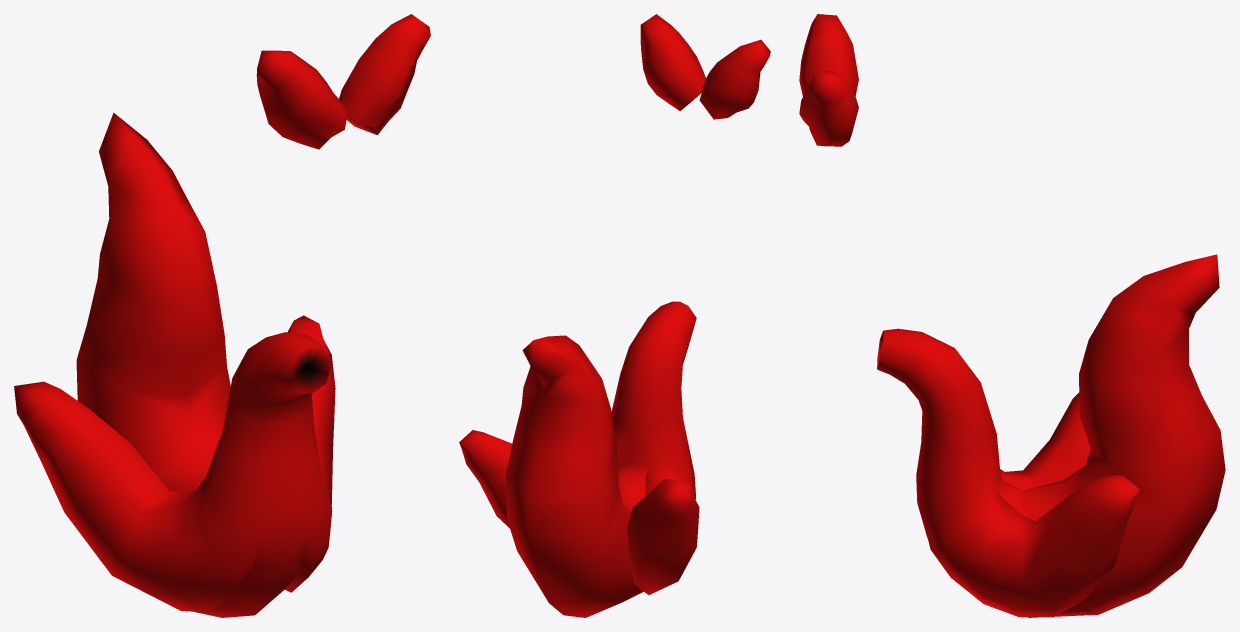
Rendered from Shyati-Step20.fbx.
3 renders of one model, left to right at view 1: azimuth 30°, elevation 25°; view 2: azimuth 150°, elevation 25°; view 3: azimuth 270°, elevation 25°, orthographic. The views are drawn at different scales.
Parts seen in each view (by area): view 1: Mul_Mesh; view 2: Mul_Mesh; view 3: Mul_Mesh.
Part boxes in pixels (bbox=[...]): Mul_Mesh: bbox=[14, 14, 430, 617]; Mul_Mesh: bbox=[459, 14, 770, 617]; Mul_Mesh: bbox=[799, 14, 1225, 617].
Bounding box in the file's own units: 7.05 × 14.81 × 9.96.
